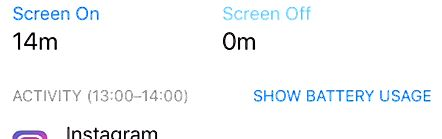activity: (8, 86, 195, 108)
